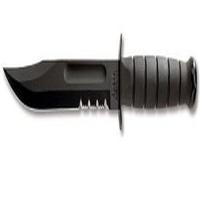knife: (3, 39, 198, 125)
